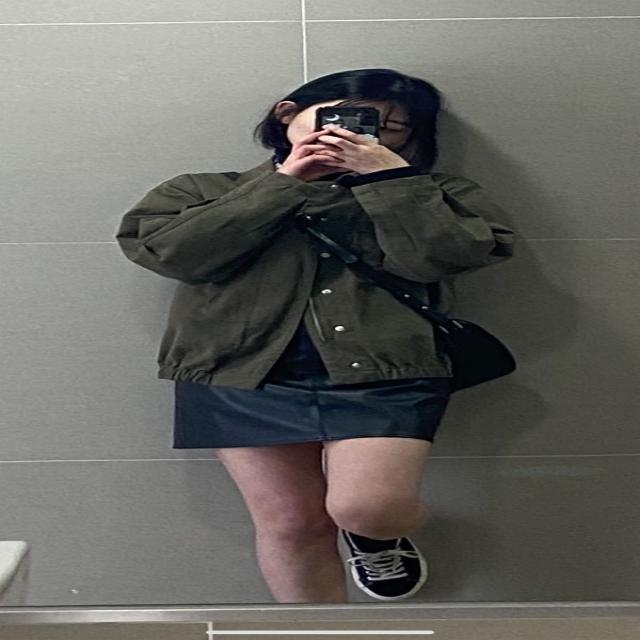jacket: (106, 163, 522, 386)
skirt: (166, 327, 456, 448)
